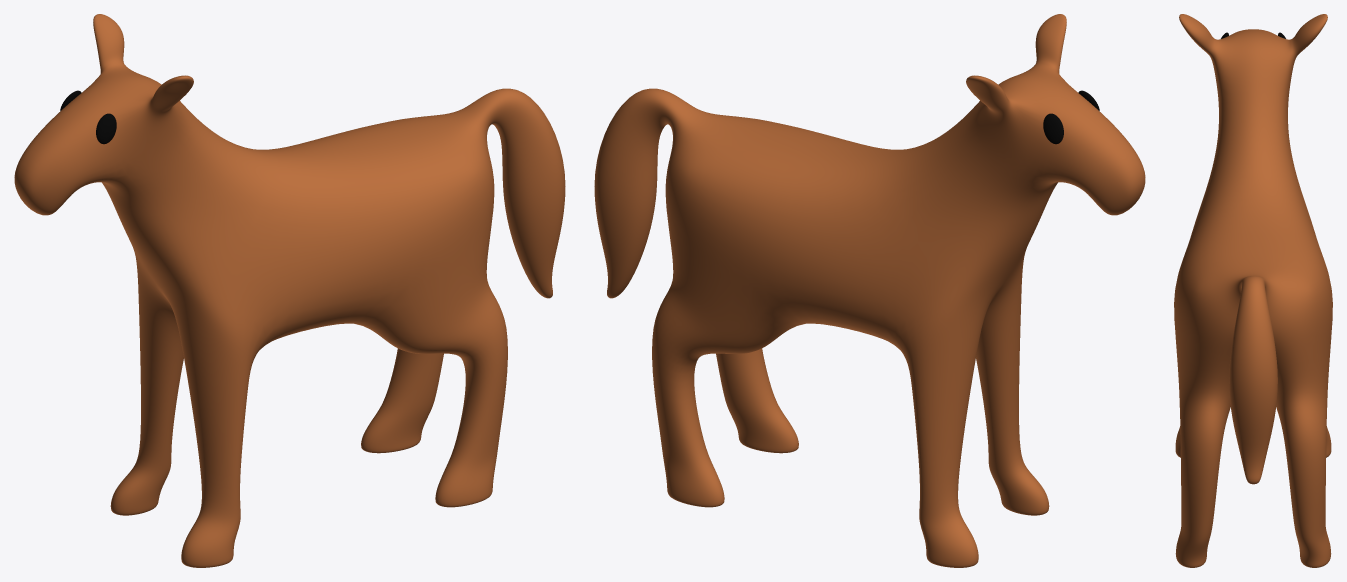
The model's file is Horse.gltf.
3 views of the same model, side by side, from view 1: azimuth 30°, elevation 25°; view 2: azimuth 150°, elevation 25°; view 3: azimuth 270°, elevation 25° (orthographic). The views are drawn at different scales.
Visible parts, largest first — view 1: Horse; view 2: Horse; view 3: Horse.
Boxes of the visible parts, x1,y1,x2,y2 form: Horse: (14, 14, 565, 567); Horse: (594, 14, 1145, 567); Horse: (1174, 14, 1332, 567).
Size of the model in its own units: 1.52 by 1.33 by 0.4509.
Materials: 2 (1 with a texture image).
